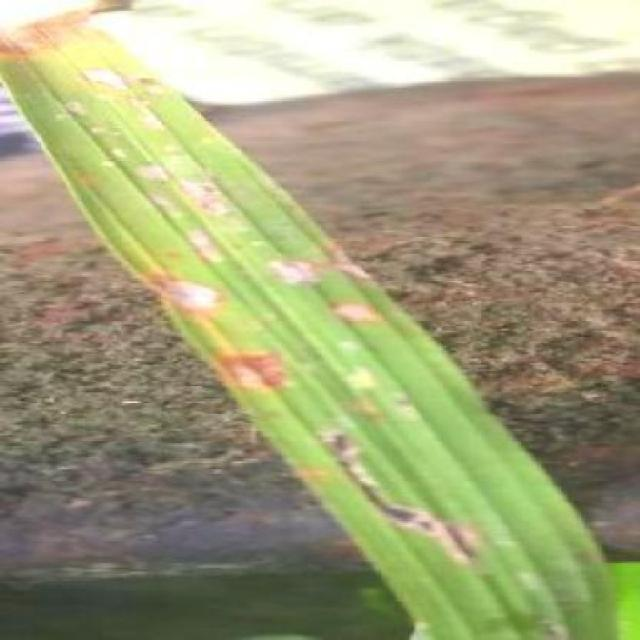Bacterial_Leaf_Blight: (280, 408, 498, 572), (426, 491, 640, 638), (244, 221, 402, 301), (0, 1, 134, 93), (141, 248, 242, 335), (424, 595, 608, 640), (204, 324, 304, 398), (174, 158, 232, 258), (307, 287, 388, 341), (317, 351, 392, 402), (76, 55, 136, 100), (124, 90, 173, 142), (140, 182, 188, 235), (123, 150, 174, 188)
